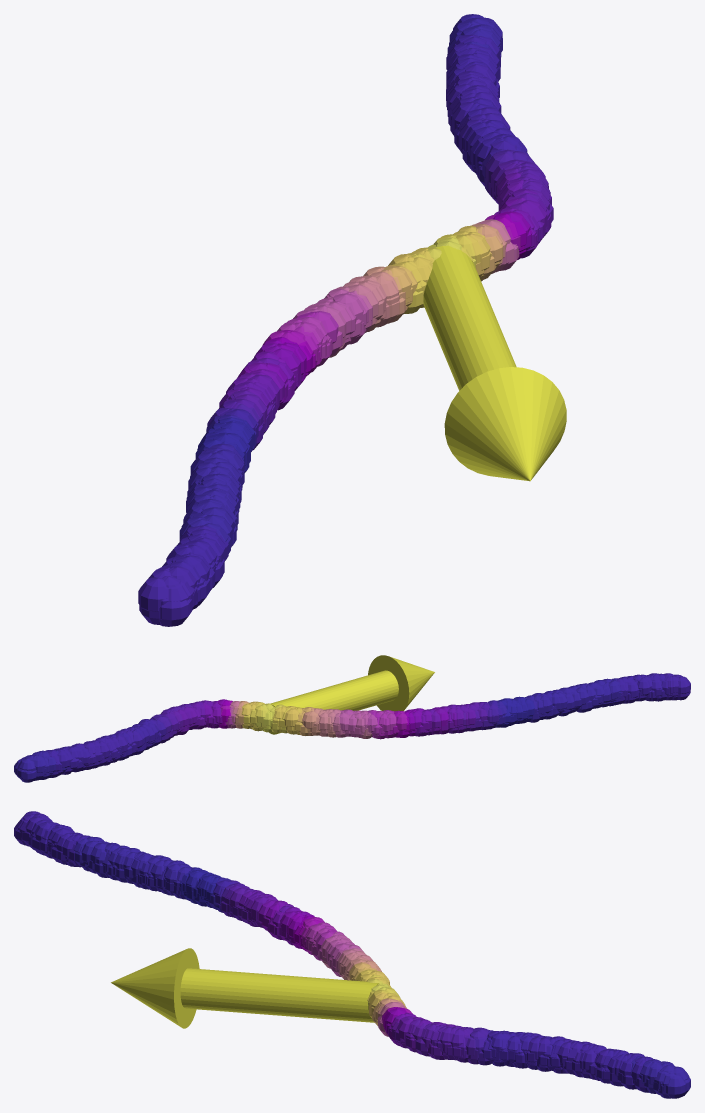
File: pred_heatmap_0.glb
3 views of the same model, one above another, from view 1: azimuth 30°, elevation 25°; view 2: azimuth 150°, elevation 25°; view 3: azimuth 270°, elevation 25° (orthographic). The views are drawn at different scales.
Visible parts, largest first — view 1: world; view 2: world; view 3: world.
Part boxes in pixels (bbox=[...]): world: bbox=[138, 14, 566, 626]; world: bbox=[14, 655, 690, 782]; world: bbox=[14, 811, 690, 1098].
Size of the model in its own units: 0.9472 by 0.1194 by 1.
